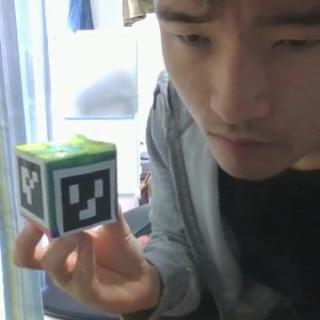armor: (53, 160, 116, 236), (16, 153, 48, 225)
robot: (15, 134, 116, 240)
